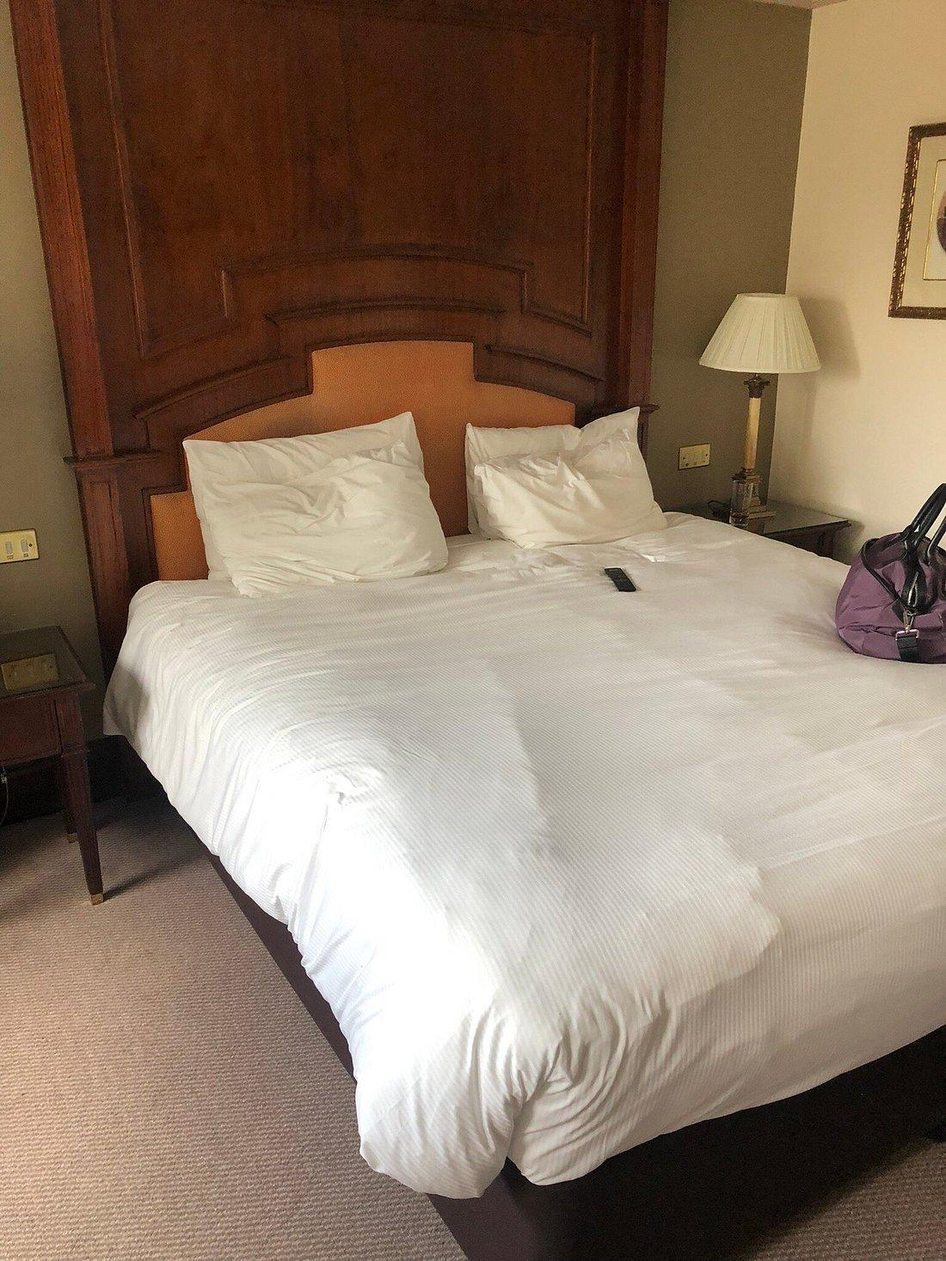Disorganized_pillow: (181, 410, 673, 587)
messy_bed: (153, 443, 843, 1152)
